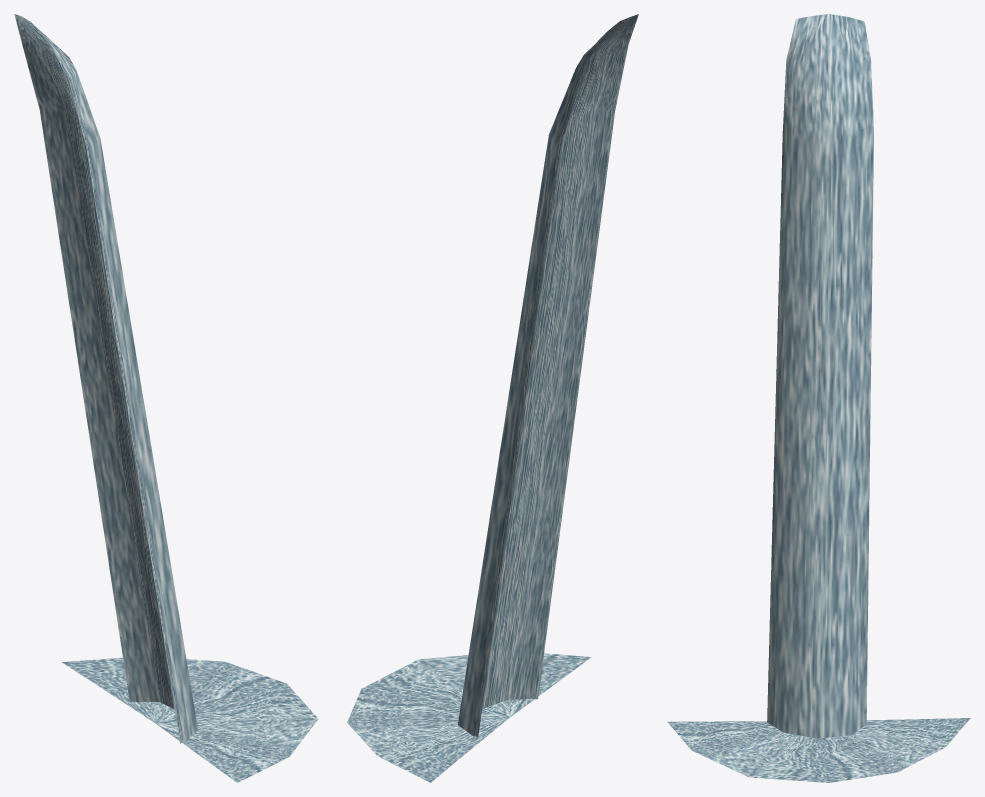
Rendered from Waterfall2.obj.
3 views of the same model, side by side, from view 1: azimuth 30°, elevation 25°; view 2: azimuth 150°, elevation 25°; view 3: azimuth 270°, elevation 25° (orthographic). The views are drawn at different scales.
Bounding box in the file's own units: 87.95 × 237 × 99.5.
1 material, 1 textured.
